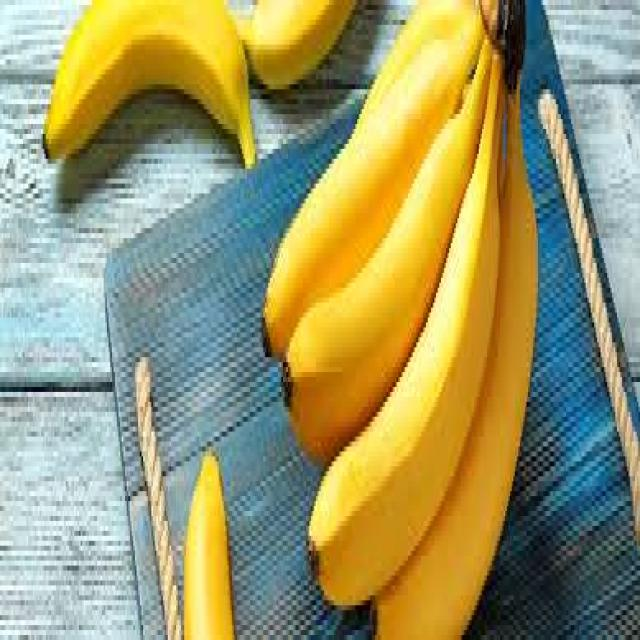Banana: (261, 0, 540, 640), (41, 0, 255, 182), (232, 0, 362, 94), (183, 456, 236, 640)
